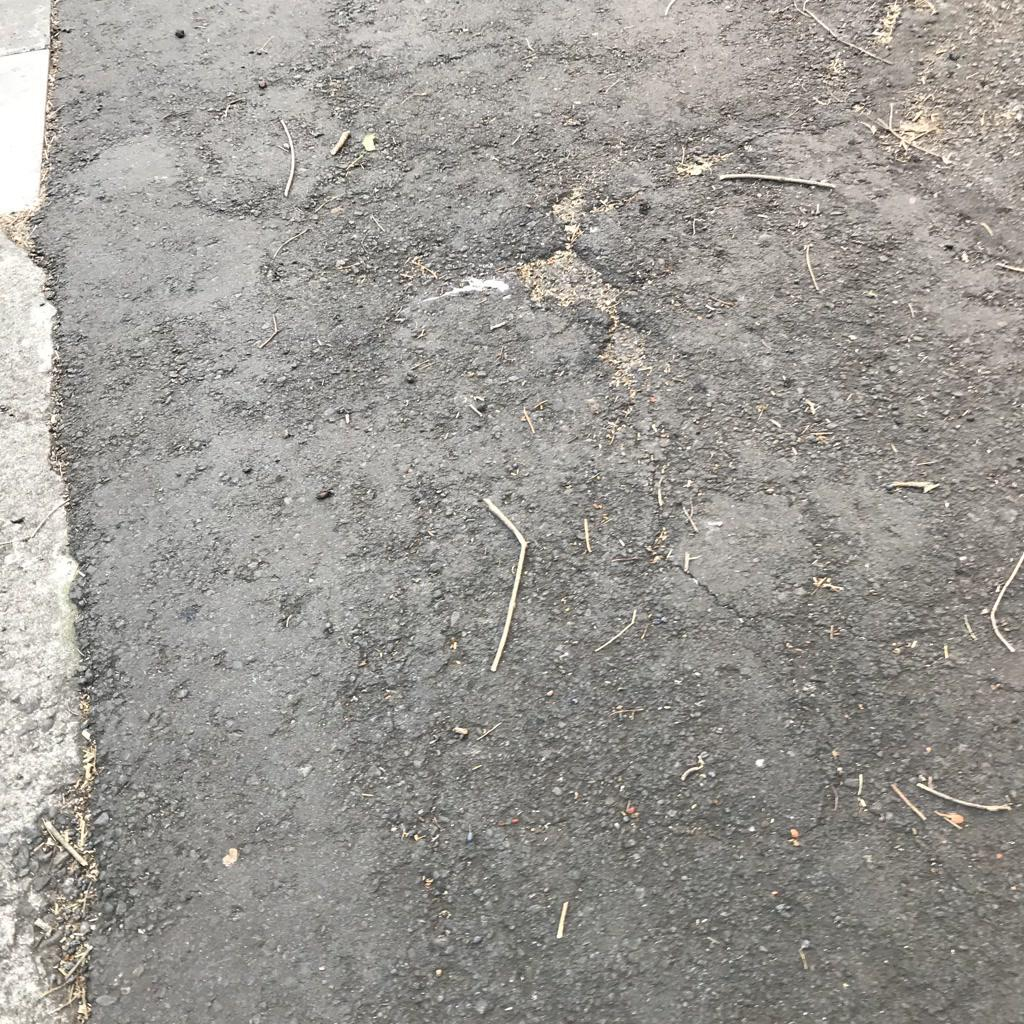D40: (493, 185, 667, 389)
